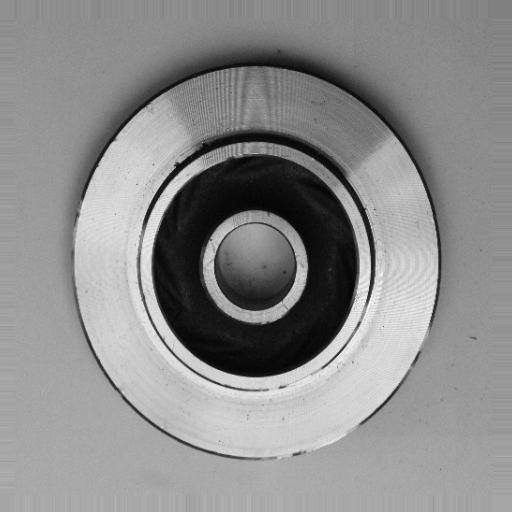crack: (193, 139, 217, 156), (170, 155, 187, 175)
scratch: (274, 421, 374, 467)
unpolished_casting: (70, 60, 442, 463)
